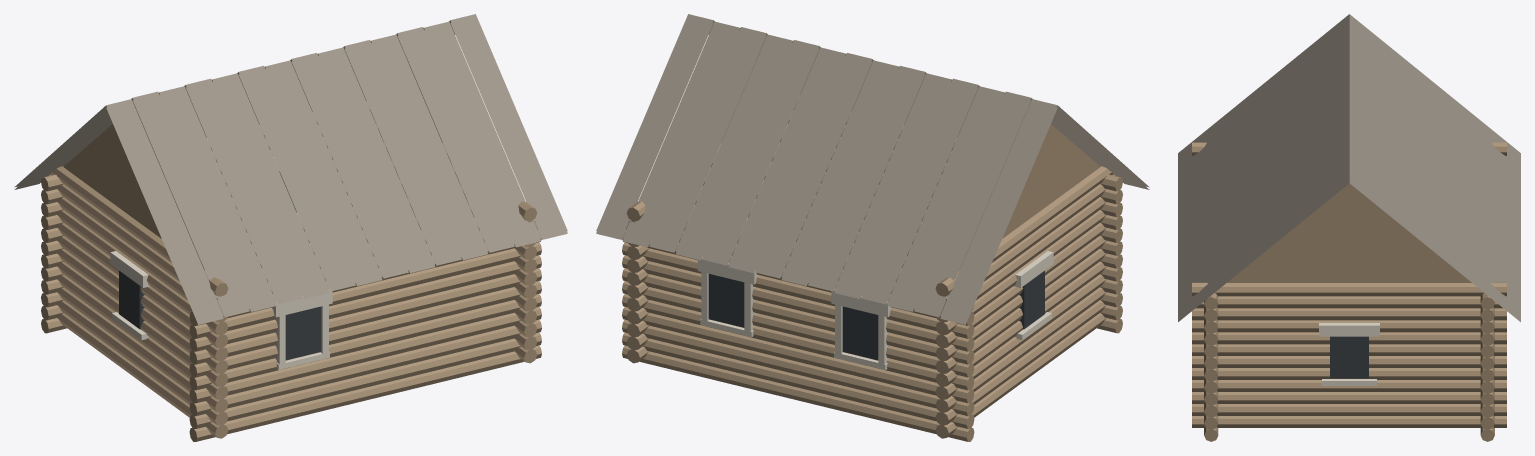
File: izba.glb
3 views of the same model, side by side, from view 1: azimuth 30°, elevation 25°; view 2: azimuth 150°, elevation 25°; view 3: azimuth 270°, elevation 25° (orthographic). The views are drawn at different scales.
Visible parts, largest first — view 1: izba; view 2: izba; view 3: izba.
Boxes of the visible parts, x1,y1,x2,y2 form: izba: (14, 14, 567, 441); izba: (596, 14, 1149, 441); izba: (1178, 14, 1520, 441).
Size of the model in its own units: 7.18 by 5.32 by 6.2.
